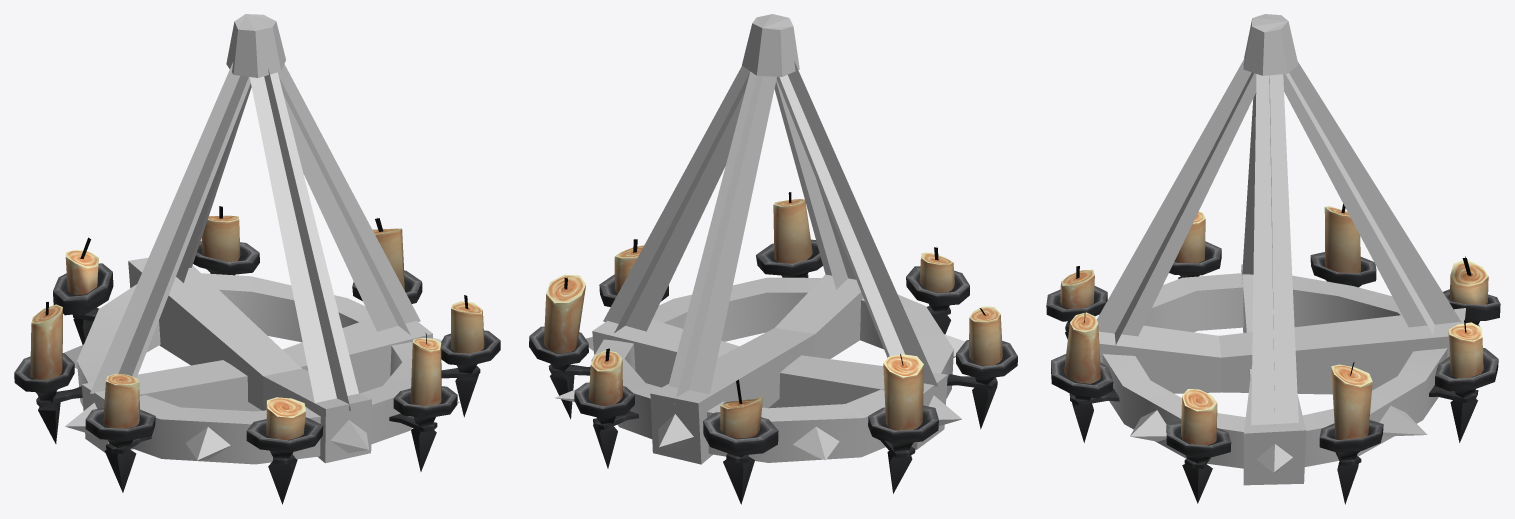
The model's file is SM_PROP_chandelier_dungeon_01.fbx.
The picture shows the model from 3 angles, left to right: view 1: azimuth 30°, elevation 25°; view 2: azimuth 150°, elevation 25°; view 3: azimuth 270°, elevation 25°; orthographic projection. The views are drawn at different scales.
Visible parts, largest first — view 1: SM_PROP_chandelier_dungeon_01; view 2: SM_PROP_chandelier_dungeon_01; view 3: SM_PROP_chandelier_dungeon_01.
Part boxes in pixels (x1,y1,x2,y2): SM_PROP_chandelier_dungeon_01: (14,14,500,504); SM_PROP_chandelier_dungeon_01: (529,14,1017,504); SM_PROP_chandelier_dungeon_01: (1046,14,1500,504).
Size of the model in its own units: 268 by 262 by 266.
